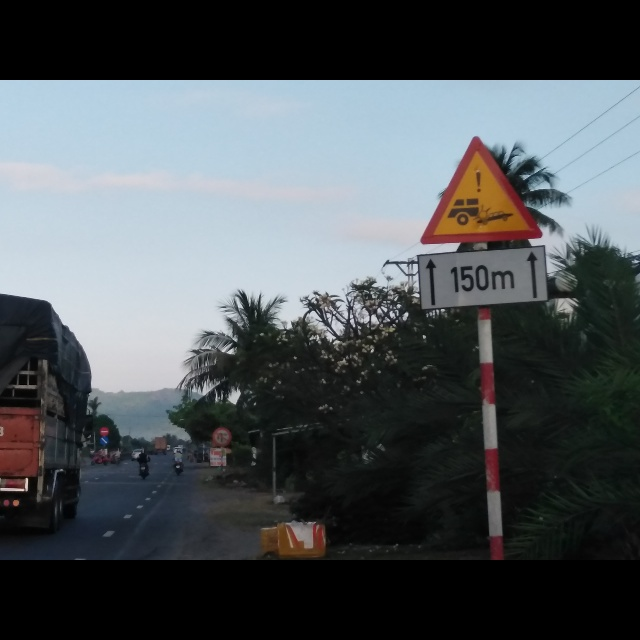Đoạn đường hay xảy ra tai nạn: (420, 133, 544, 245)
